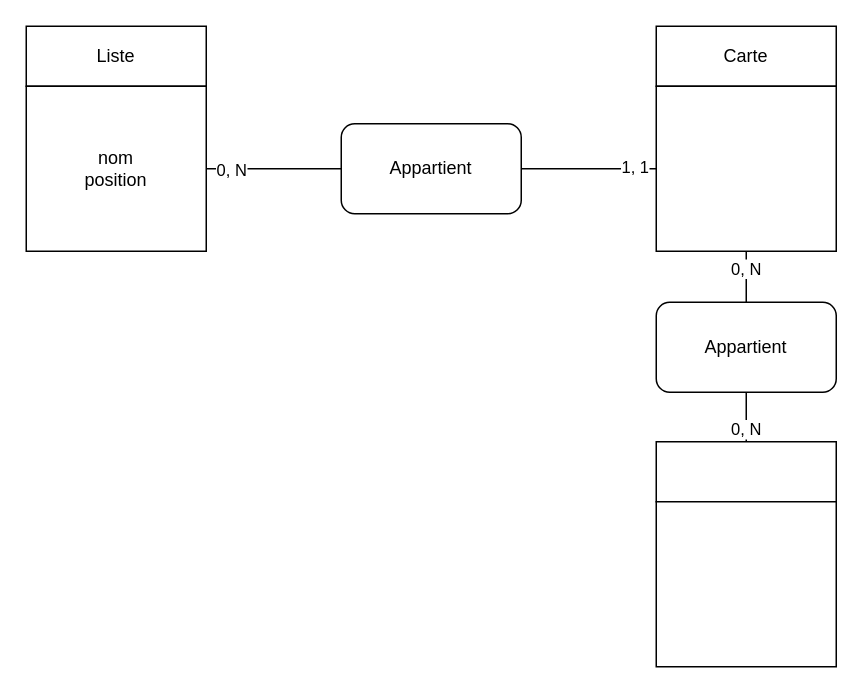
Image size: 863x693. Some labels were removed from this diagram. The shapes that lost their labels are listed below. From the top down, each one's centre as x and y in pixels, then its label:
point (745, 168): titre position couleur
point (745, 471): Label
point (745, 583): nom couleur
